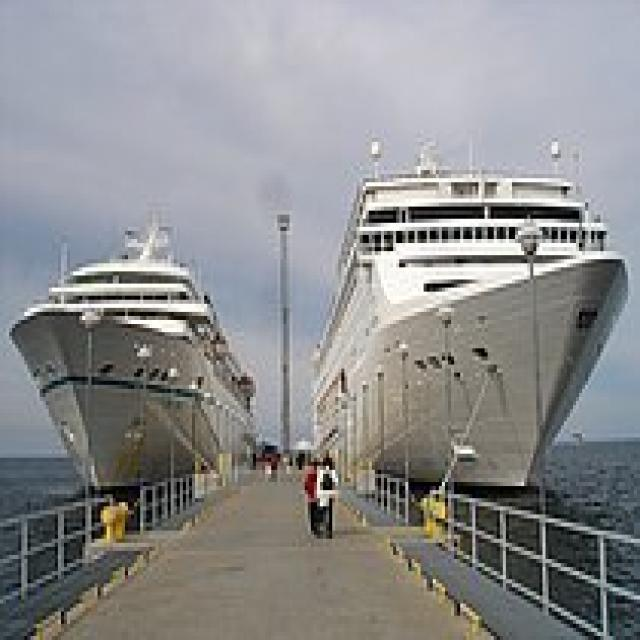Ship: (287, 127, 640, 516), (4, 208, 269, 500)
